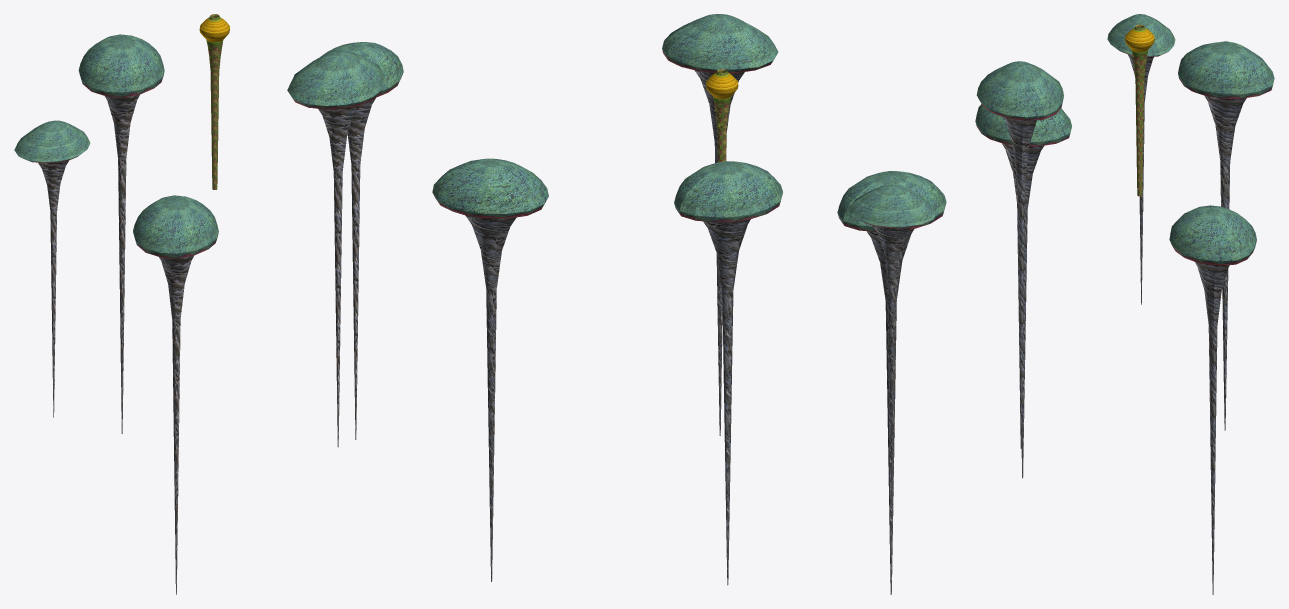
Rendered from Frog Forest 16.fbx.
3 renders of one model, left to right at view 1: azimuth 30°, elevation 25°; view 2: azimuth 150°, elevation 25°; view 3: azimuth 270°, elevation 25°, orthographic. The views are drawn at different scales.
Visible parts, largest first — view 1: Frog Forest 16; view 2: Frog Forest 16; view 3: Frog Forest 16.
Boxes of the visible parts, <box> form: Frog Forest 16: <box>14,14,403,594</box>; Frog Forest 16: <box>432,14,946,594</box>; Frog Forest 16: <box>975,14,1274,594</box>.
Size of the model in its own units: 1440076 by 1667513 by 906838.
